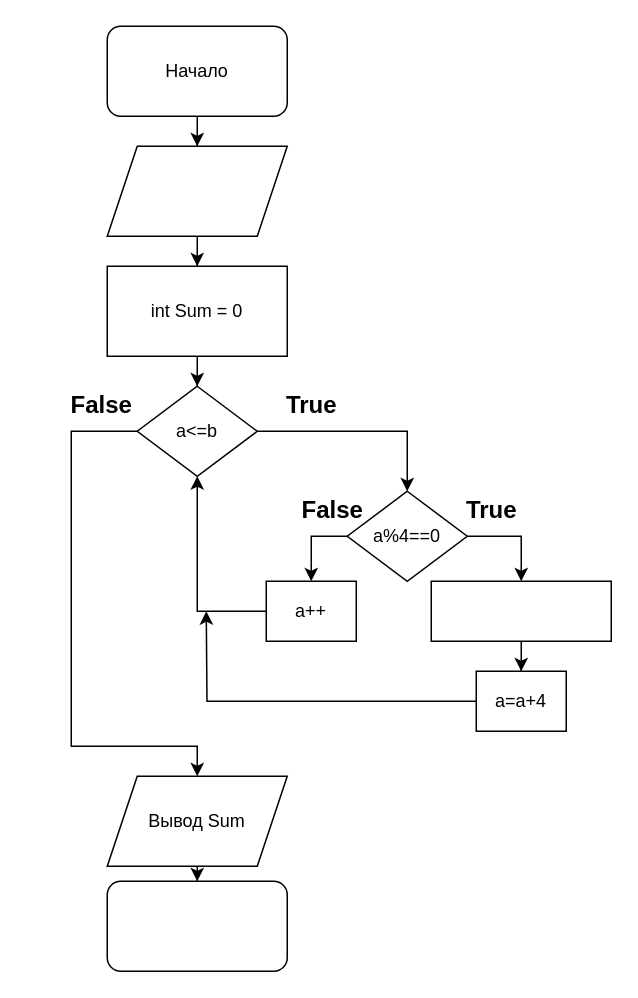
This 638x998 diagram has some shape labels left out. The shapes that lost their labels are listed below. From the top down, each one's centre as x and y in pixels, then its label:
At point 196,190: "Ввод int(a,b)".
At point 520,610: "Sum = Sum + a".
At point 196,925: "Конец".
